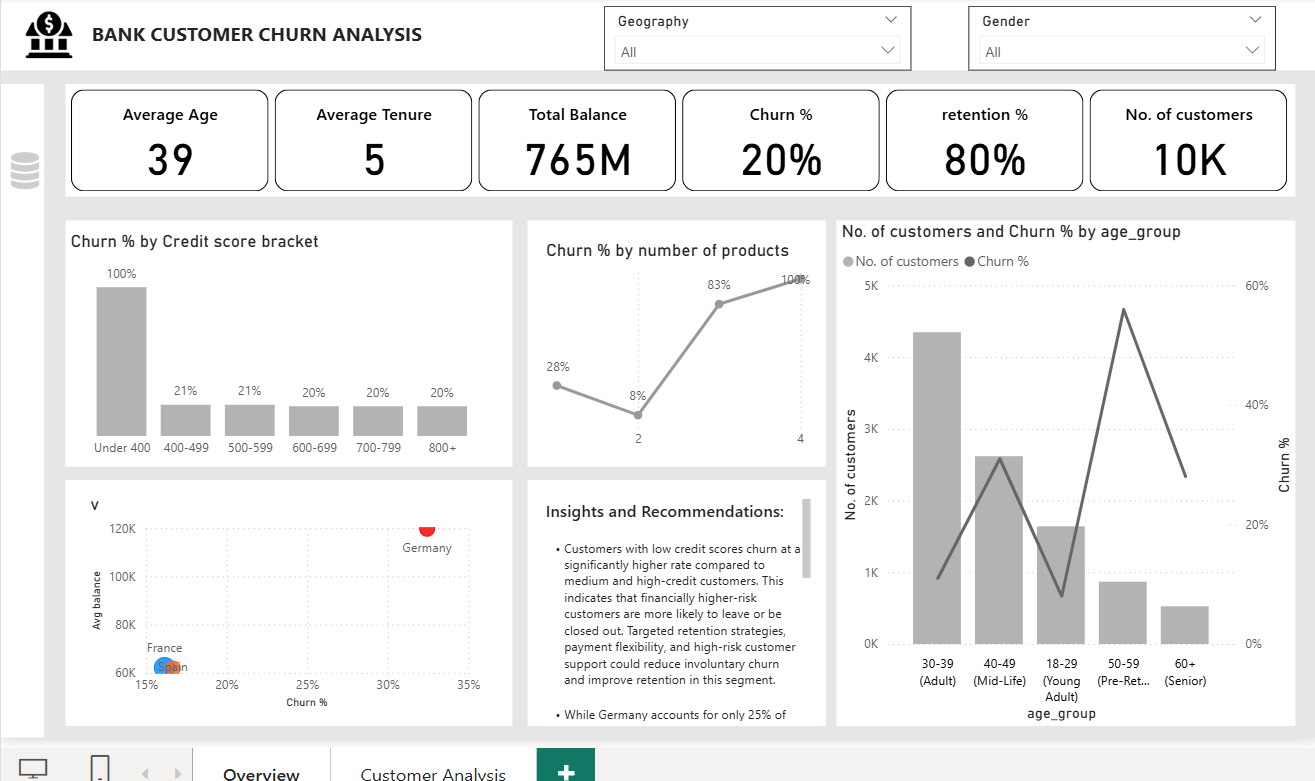

What the dashboard file says about the page in this screenshot:
{"tool":"powerbi","page":{"name":"Overview","canvas":[1280,720],"ordinal":0},"visuals":[{"type":"shape","box":[62.7,84.6,1195.4,109.3],"z":0},{"type":"shape","box":[0,0,1280,71.4],"z":1000},{"type":"shape","box":[0,84.6,42.3,635.6],"z":2000},{"type":"textbox","box":[83.1,17.5,428.6,37.9],"z":3000},{"type":"cardVisual","fields":{"Data":["Avg(Churn_Modelling.Age)","Avg(Churn_Modelling.Tenure)","Sum(Churn_Modelling.Balance)","Churn_Modelling.Churnrate","Churn_Modelling.retentionrate","CountNonNull(Churn_Modelling.CustomerId)"]},"box":[62.7,84.6,1195.4,109.3],"z":4000},{"type":"shape","box":[62.7,217.2,434.4,239.1],"z":5000},{"type":"columnChart","title":"Churn % by Credit score bracket","fields":{"Category":["Churn by credit score.credit_score_bracket"],"Y":["Sum(Churn by credit score.churn_rate)"]},"box":[62.7,227.4,421.3,228.9],"z":6000},{"type":"shape","box":[511.7,217.2,290.1,239.1],"z":7000},{"type":"lineChart","title":"Churn % by number of products","fields":{"Category":["product churn.num_of_products"],"Y":["Max(product churn.churn_rate_pct)"]},"box":[524.8,236.2,266.8,211.4],"z":8000},{"type":"shape","box":[62.7,469.4,434.4,239.1],"z":9000},{"type":"scatterChart","title":"v","fields":{"X":["Sum(geography details.churn_rate_pct)"],"Y":["Sum(geography details.avg_balance)"],"Series":["geography details.geography"],"Size":["Sum(geography details.total_customers)"]},"box":[81.6,482.6,389.2,212.8],"z":10000},{"type":"lineClusteredColumnComboChart","fields":{"Category":["age churn.age_group"],"Y":["Sum(age churn.total_customers)"],"Y2":["Max(age churn.churn_rate_pct)"]},"box":[812,217.2,446.1,491.3],"z":11000},{"type":"shape","box":[511.7,469.4,290.1,239.1],"z":12000},{"type":"textbox","box":[524.8,482.6,266.8,226],"z":13000},{"type":"slicer","fields":{"Values":["Churn_Modelling.Geography"]},"box":[586.1,8.7,298.9,62.7],"z":19001},{"type":"slicer","fields":{"Values":["Churn_Modelling.Gender"]},"box":[940.3,8.7,298.9,62.7],"z":19002},{"type":"image","box":[0,8.7,93.3,55.4],"z":19003},{"type":"image","box":[0,110.8,46.7,116.6],"z":19004}]}

Visuals, with their boxes on the page's 1280x720 design canvas (x1, y1, x2, y2). These are canvas units, not pixel positions in the 1315x781 screenshot, which may show the page scaled, cropped or inside an application window:
shape: [63,85,1258,194]
shape: [0,0,1280,71]
shape: [0,85,42,720]
textbox: [83,18,512,55]
cardVisual - Avg(Churn_Modelling.Age) x Avg(Churn_Modelling.Tenure): [63,85,1258,194]
shape: [63,217,497,456]
"Churn % by Credit score bracket" columnChart: [63,227,484,456]
shape: [512,217,802,456]
"Churn % by number of products" lineChart: [525,236,792,448]
shape: [63,469,497,708]
"v" scatterChart: [82,483,471,695]
lineClusteredColumnComboChart - age churn.age_group x Sum(age churn.total_customers): [812,217,1258,708]
shape: [512,469,802,708]
textbox: [525,483,792,709]
slicer - Churn_Modelling.Geography: [586,9,885,71]
slicer - Churn_Modelling.Gender: [940,9,1239,71]
image: [0,9,93,64]
image: [0,111,47,227]
